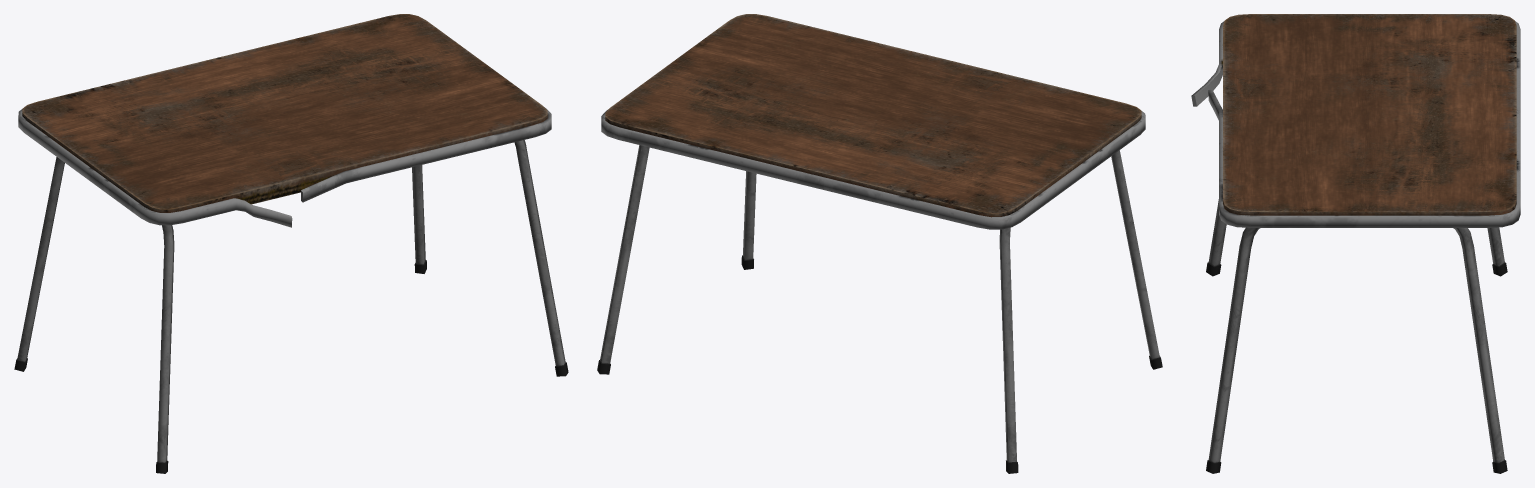
Rendered from worn_squere_table_-_wood_top__steel_frame.glb.
The picture shows the model from 3 angles, left to right: view 1: azimuth 30°, elevation 25°; view 2: azimuth 150°, elevation 25°; view 3: azimuth 270°, elevation 25°; orthographic projection. The views are drawn at different scales.
Visible parts, largest first — view 1: LP_Solid_0, LP_Metal_0; view 2: LP_Solid_0, LP_Metal_0; view 3: LP_Solid_0, LP_Metal_0.
Boxes of the visible parts, x1,y1,x2,y2 form: LP_Solid_0: [14, 14, 568, 473]; LP_Metal_0: [17, 140, 565, 462]; LP_Solid_0: [597, 14, 1162, 473]; LP_Metal_0: [600, 145, 1159, 462]; LP_Solid_0: [1191, 14, 1520, 473]; LP_Metal_0: [1208, 199, 1504, 462].
Bounding box in the file's own units: 1.22 × 0.7232 × 0.8297.
Materials: 2 (2 with a texture image).
